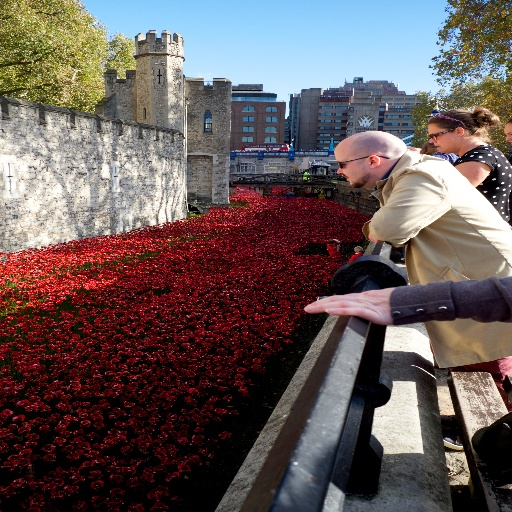hand: (318, 286, 435, 329)
